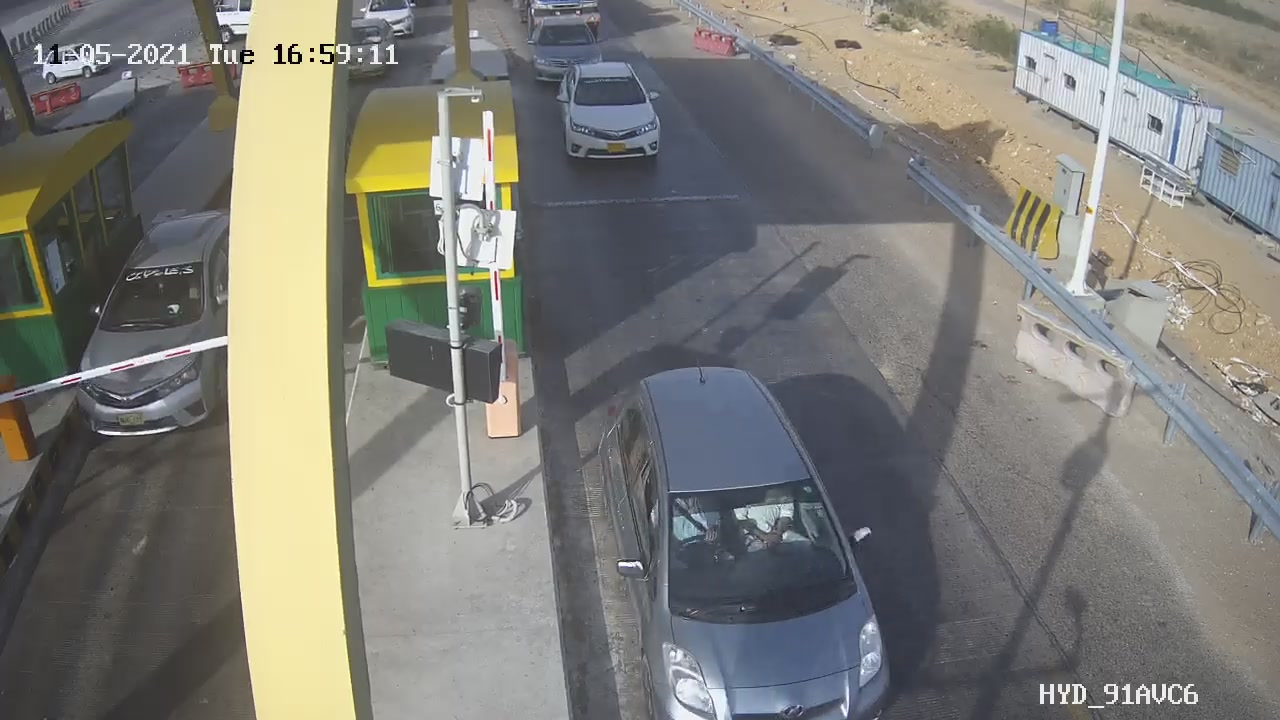F1: (542, 51, 677, 183)
